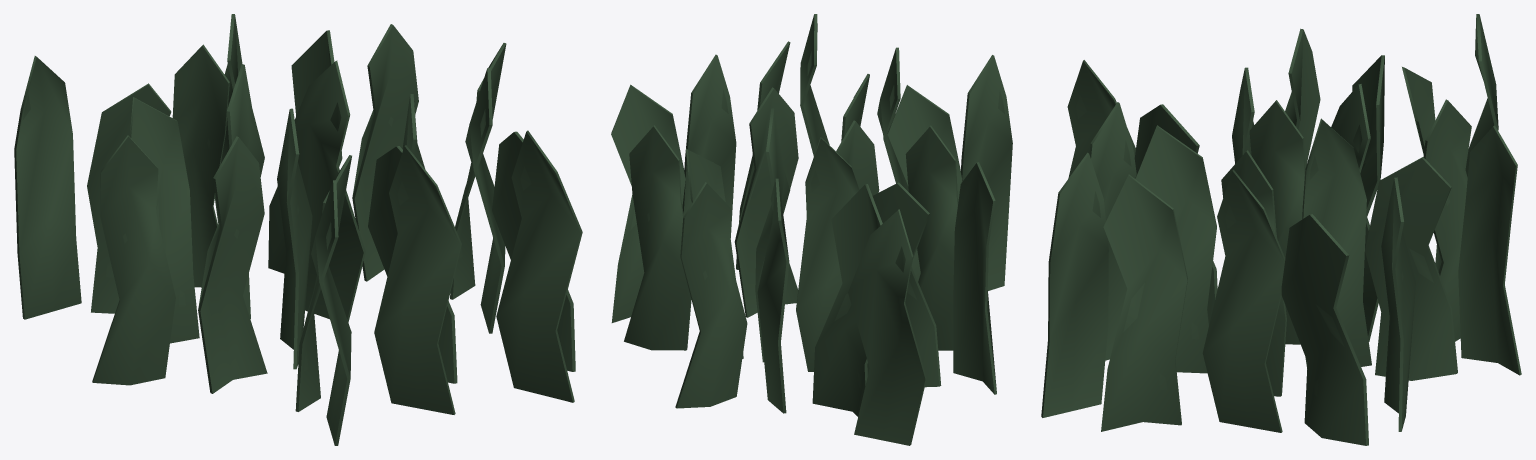
File: FMP_Grass_Shaded_1.fbx
The picture shows the model from 3 angles, left to right: view 1: azimuth 30°, elevation 25°; view 2: azimuth 150°, elevation 25°; view 3: azimuth 270°, elevation 25°; orthographic projection. The views are drawn at different scales.
Visible parts, largest first — view 1: pCube79; view 2: pCube79; view 3: pCube79.
Part boxes in pixels (box(x1,y1,x2,y2)): pCube79: box(14, 14, 582, 445); pCube79: box(611, 14, 1012, 445); pCube79: box(1041, 14, 1521, 445).
Size of the model in its own units: 158 by 95.07 by 163.
